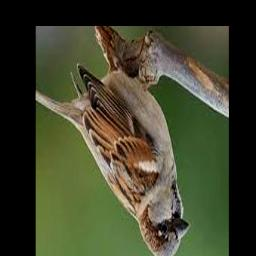Sparrow: (35, 63, 190, 256)
